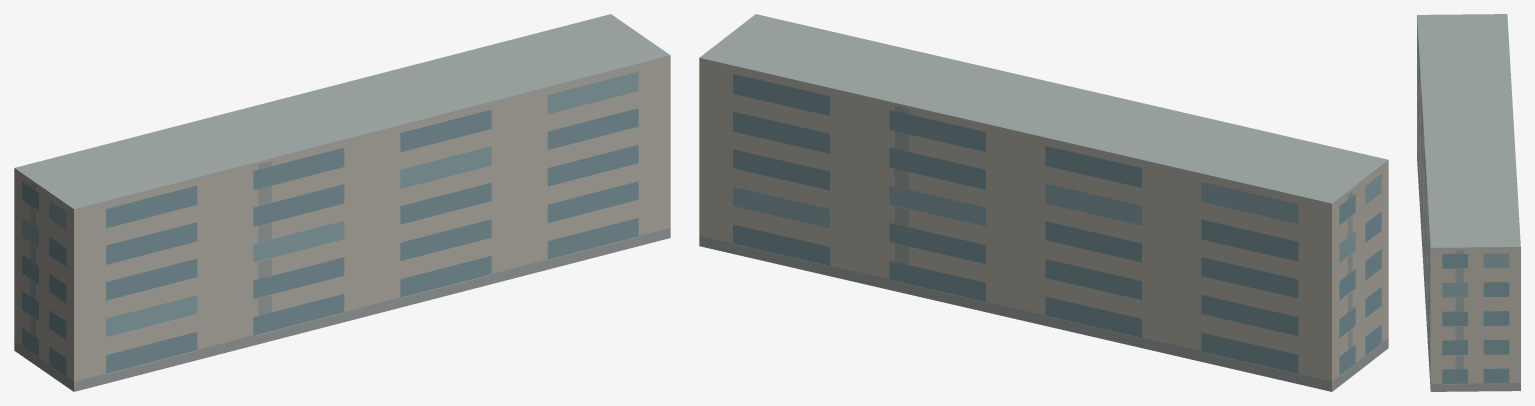
The model's file is residential-0945705d-8334-4452-872b-47bc6aea0755.glb.
The picture shows the model from 3 angles, left to right: view 1: azimuth 30°, elevation 25°; view 2: azimuth 150°, elevation 25°; view 3: azimuth 270°, elevation 25°; orthographic projection. The views are drawn at different scales.
Parts seen in each view (by area): view 1: residential-0945705d-8334-4452-872b-47bc6aea0755.tmp; view 2: residential-0945705d-8334-4452-872b-47bc6aea0755.tmp; view 3: residential-0945705d-8334-4452-872b-47bc6aea0755.tmp.
Part boxes in pixels (left/top/right/bottom): residential-0945705d-8334-4452-872b-47bc6aea0755.tmp: left=14, top=14, right=670, bottom=391; residential-0945705d-8334-4452-872b-47bc6aea0755.tmp: left=699, top=14, right=1388, bottom=391; residential-0945705d-8334-4452-872b-47bc6aea0755.tmp: left=1417, top=14, right=1520, bottom=391.
Bounding box in the file's own units: 53.09 × 15.25 × 9.96.
